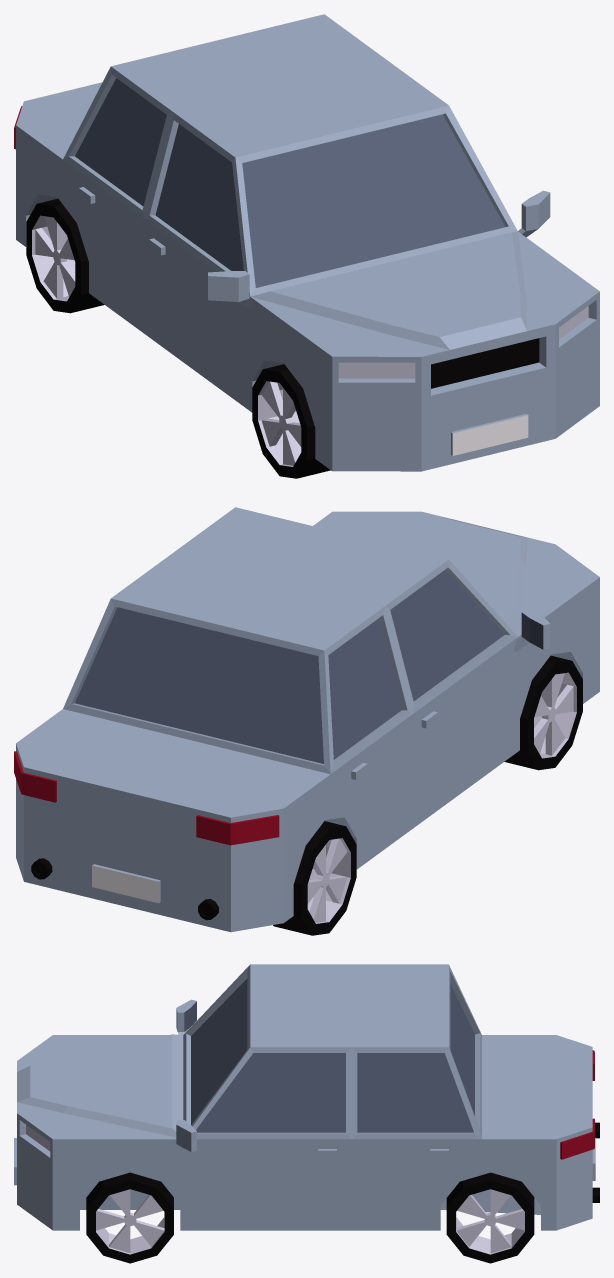
The model's file is Sedan.glb.
3 views of the same model, one above another, from view 1: azimuth 30°, elevation 25°; view 2: azimuth 150°, elevation 25°; view 3: azimuth 270°, elevation 25° (orthographic). The views are drawn at different scales.
Visible parts, largest first — view 1: Sedan, Sedan wheel front right, Sedan wheel rear right; view 2: Sedan, Sedan wheel rear right, Sedan wheel front right; view 3: Sedan, Sedan wheel rear left, Sedan wheel front left.
Part boxes in pixels (bbox=[...]): Sedan: bbox=[14, 14, 599, 471]; Sedan wheel front right: bbox=[252, 364, 330, 478]; Sedan wheel rear right: bbox=[26, 198, 104, 313]; Sedan: bbox=[14, 507, 599, 932]; Sedan wheel rear right: bbox=[273, 821, 356, 935]; Sedan wheel front right: bbox=[504, 655, 582, 770]; Sedan: bbox=[14, 964, 599, 1230]; Sedan wheel rear left: bbox=[446, 1172, 534, 1263]; Sedan wheel front left: bbox=[86, 1172, 173, 1263].
Bounding box in the file's own units: 281 × 201 × 523.
